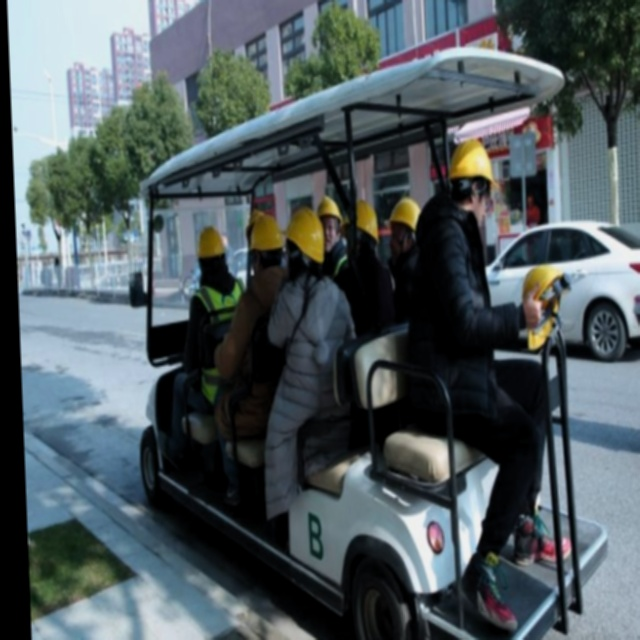Con_Casco: (445, 137, 498, 223), (283, 207, 327, 274)
